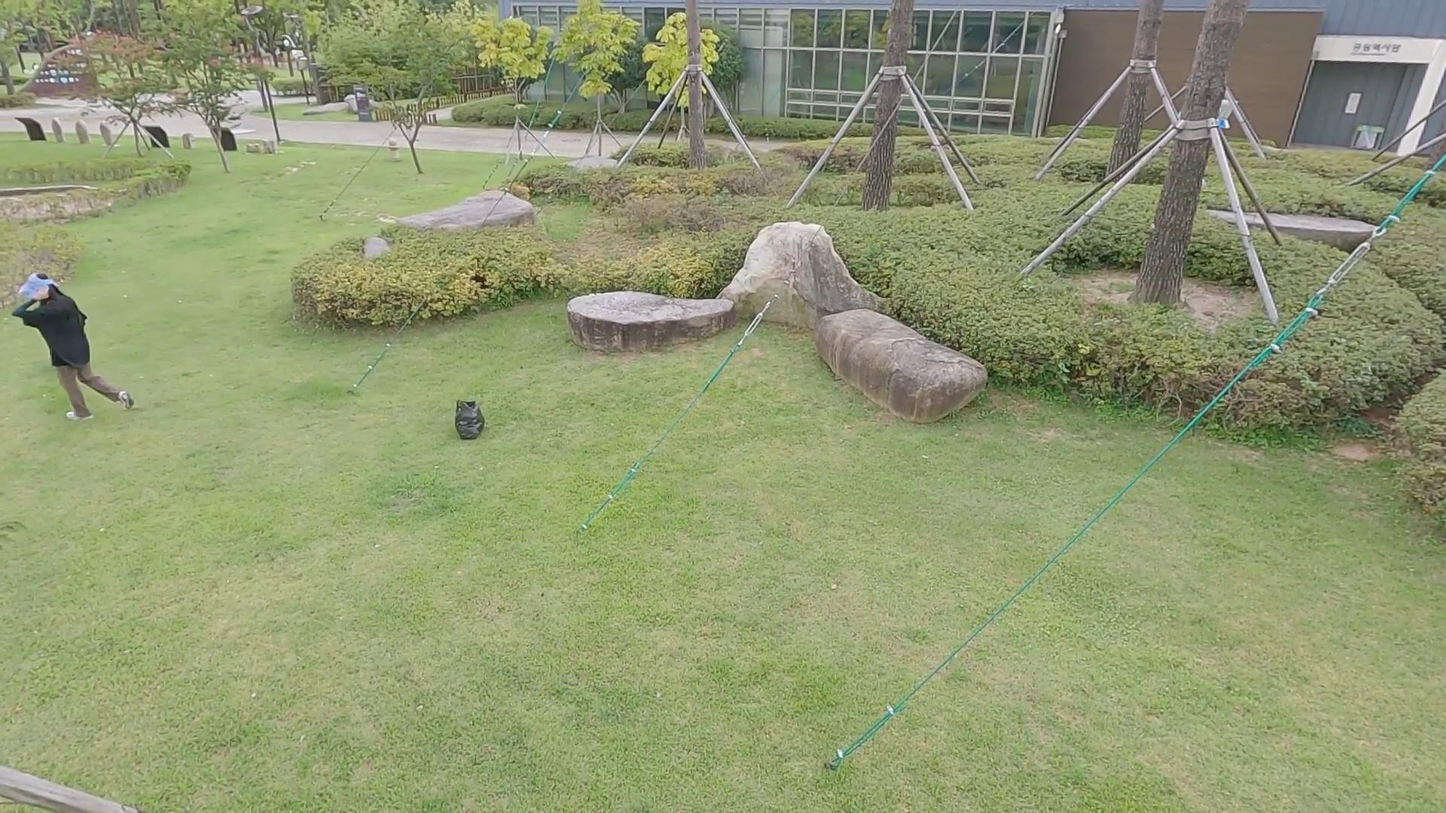person: (11, 272, 134, 425)
trash: (450, 399, 487, 440)
